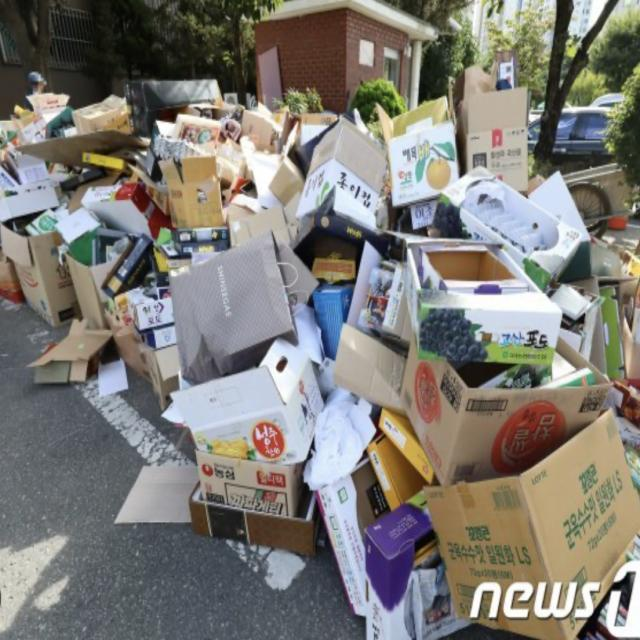biodegradable: (414, 395, 640, 640), (157, 410, 352, 555), (396, 219, 575, 370), (289, 110, 402, 252), (383, 103, 472, 216), (158, 142, 229, 233)
